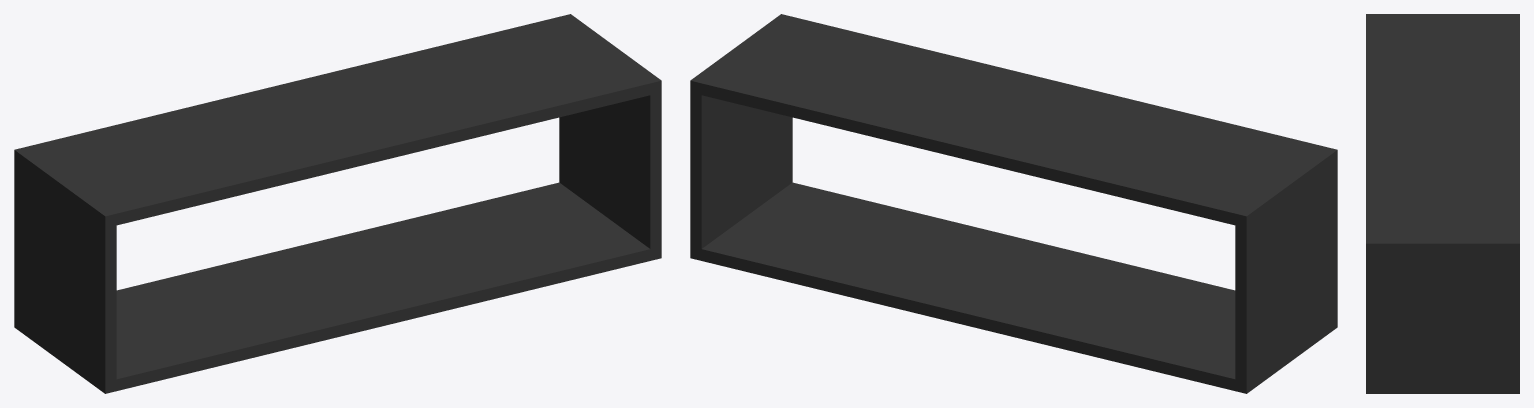
File: WallShelf_Rect.fbx
3 renders of one model, left to right at view 1: azimuth 30°, elevation 25°; view 2: azimuth 150°, elevation 25°; view 3: azimuth 270°, elevation 25°, orthographic. The views are drawn at different scales.
Parts seen in each view (by area): view 1: WallShelf_Rect; view 2: WallShelf_Rect; view 3: WallShelf_Rect.
Boxes of the visible parts, <box> form: WallShelf_Rect: <box>14,14,661,393</box>; WallShelf_Rect: <box>690,14,1337,393</box>; WallShelf_Rect: <box>1366,14,1519,393</box>.
Size of the model in its own units: 156 by 47.46 by 44.08.
